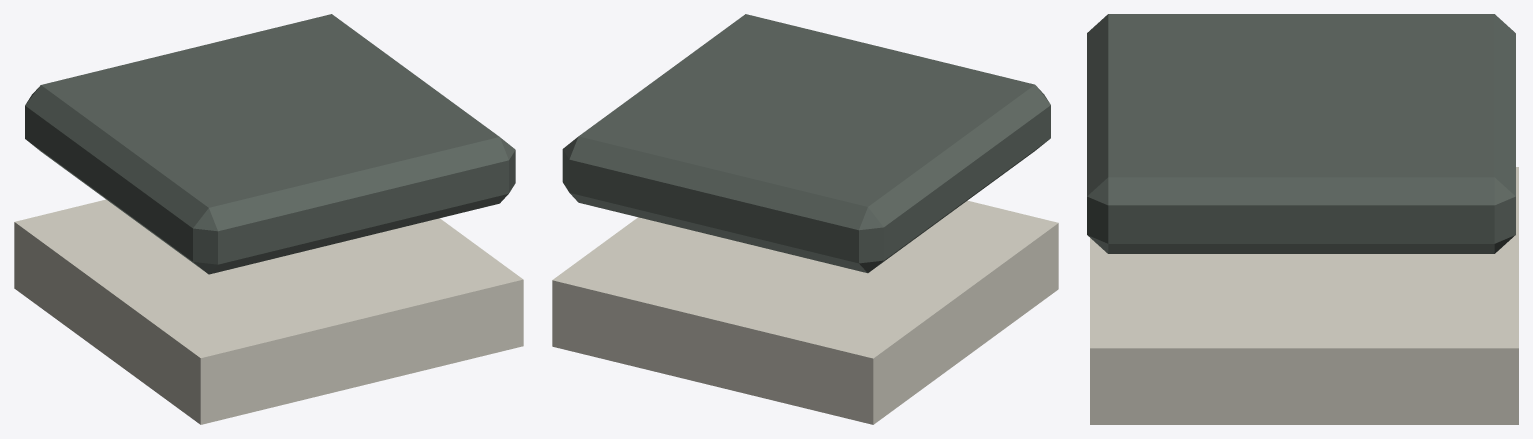
Rendered from GON-jumpplate-weigh-down.fbx.
3 renders of one model, left to right at view 1: azimuth 30°, elevation 25°; view 2: azimuth 150°, elevation 25°; view 3: azimuth 270°, elevation 25°, orthographic. The views are drawn at different scales.
Visible parts, largest first — view 1: polySurface6, polySurface7; view 2: polySurface6, polySurface7; view 3: polySurface6, polySurface7.
Boxes of the visible parts, x1,y1,x2,y2 form: polySurface6: (25,14,515,274); polySurface7: (14,199,523,424); polySurface6: (562,14,1050,273); polySurface7: (552,200,1058,424); polySurface6: (1087,14,1515,253); polySurface7: (1090,167,1518,424).
Size of the model in its own units: 3.2 by 1.96 by 3.22.
